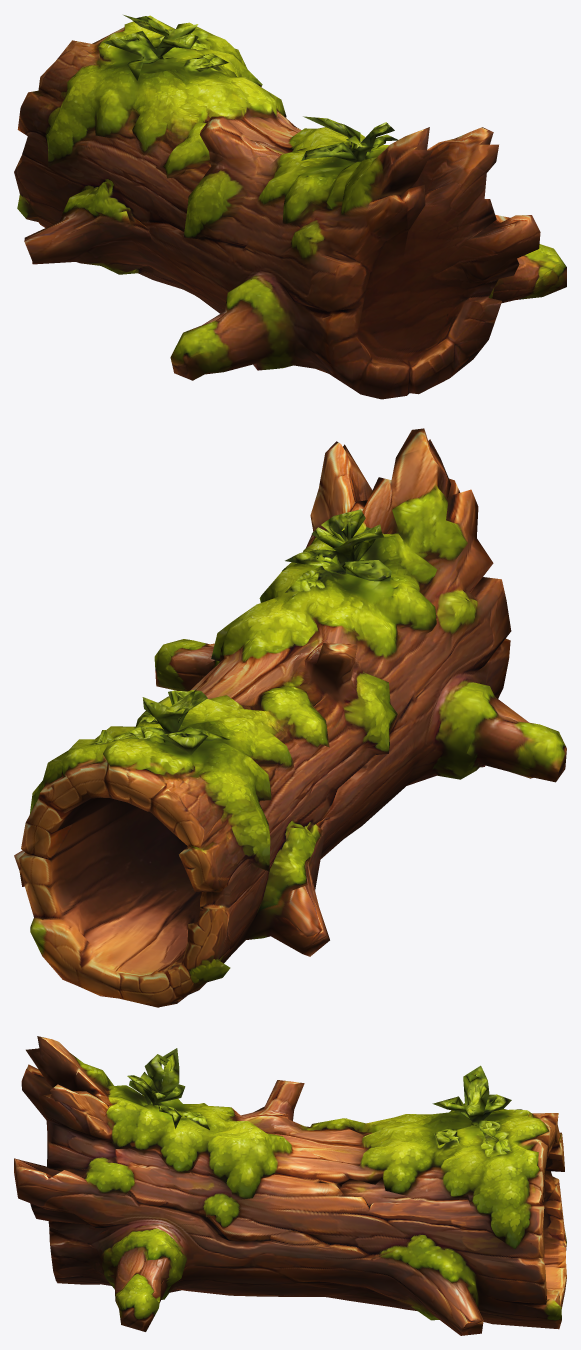
File: Kit_W_FallenLog_raw.glb
3 views of the same model, one above another, from view 1: azimuth 30°, elevation 25°; view 2: azimuth 150°, elevation 25°; view 3: azimuth 270°, elevation 25° (orthographic). The views are drawn at different scales.
Visible parts, largest first — view 1: tripo_node_c6a94d7e-8c5e-467d-9744-cdf526baf82b; view 2: tripo_node_c6a94d7e-8c5e-467d-9744-cdf526baf82b; view 3: tripo_node_c6a94d7e-8c5e-467d-9744-cdf526baf82b.
Part boxes in pixels (x1,y1,x2,y2): tripo_node_c6a94d7e-8c5e-467d-9744-cdf526baf82b: (14, 15, 566, 399); tripo_node_c6a94d7e-8c5e-467d-9744-cdf526baf82b: (14, 428, 566, 1007); tripo_node_c6a94d7e-8c5e-467d-9744-cdf526baf82b: (14, 1036, 566, 1335).
Bounding box in the file's own units: 0.7029 × 0.5636 × 1.
1 material, 1 textured.
